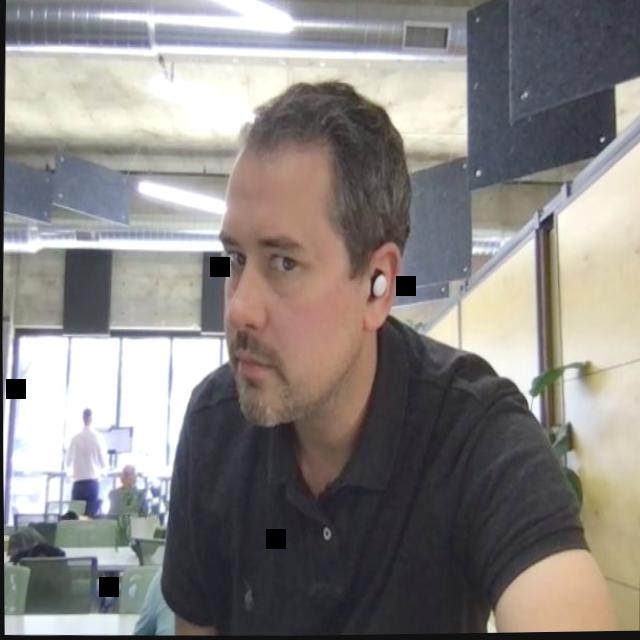NO-Mask: (214, 76, 417, 443)
